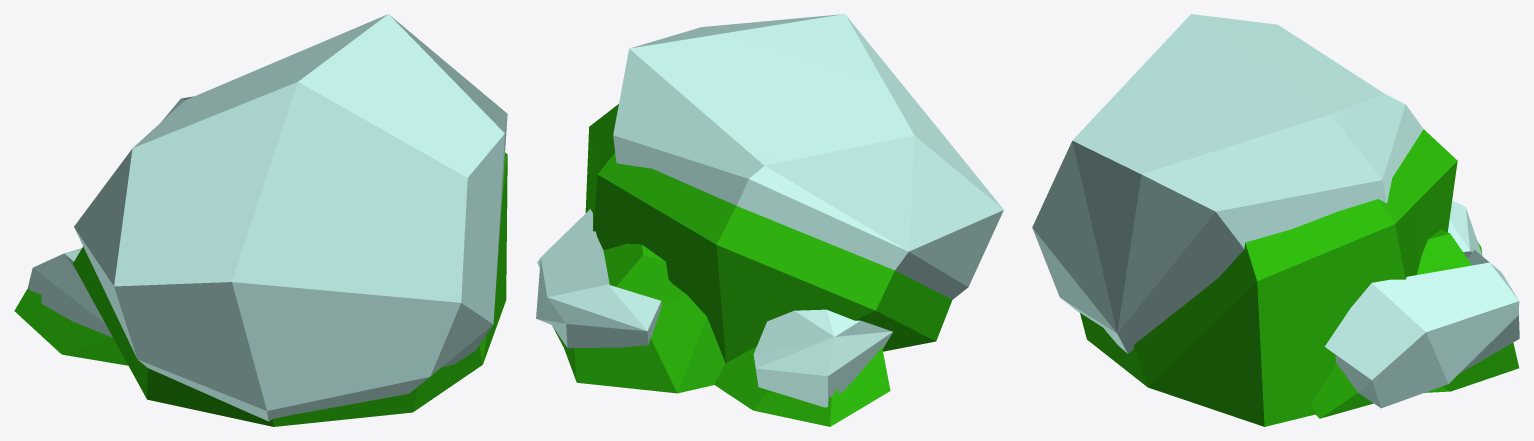
File: Bush1.FBX
3 views of the same model, side by side, from view 1: azimuth 30°, elevation 25°; view 2: azimuth 150°, elevation 25°; view 3: azimuth 270°, elevation 25° (orthographic). The views are drawn at different scales.
Parts seen in each view (by area): view 1: Bush1_b, Bush1; view 2: Bush1_b, Bush1; view 3: Bush1_b, Bush1.
Boxes of the visible parts, bbox=[...] form: Bush1_b: bbox=[27, 14, 507, 421]; Bush1: bbox=[14, 152, 507, 426]; Bush1_b: bbox=[536, 14, 1003, 407]; Bush1: bbox=[552, 104, 952, 426]; Bush1_b: bbox=[1032, 14, 1519, 408]; Bush1: bbox=[1080, 129, 1519, 426].
Size of the model in its own units: 3336 by 2300 by 3426.
